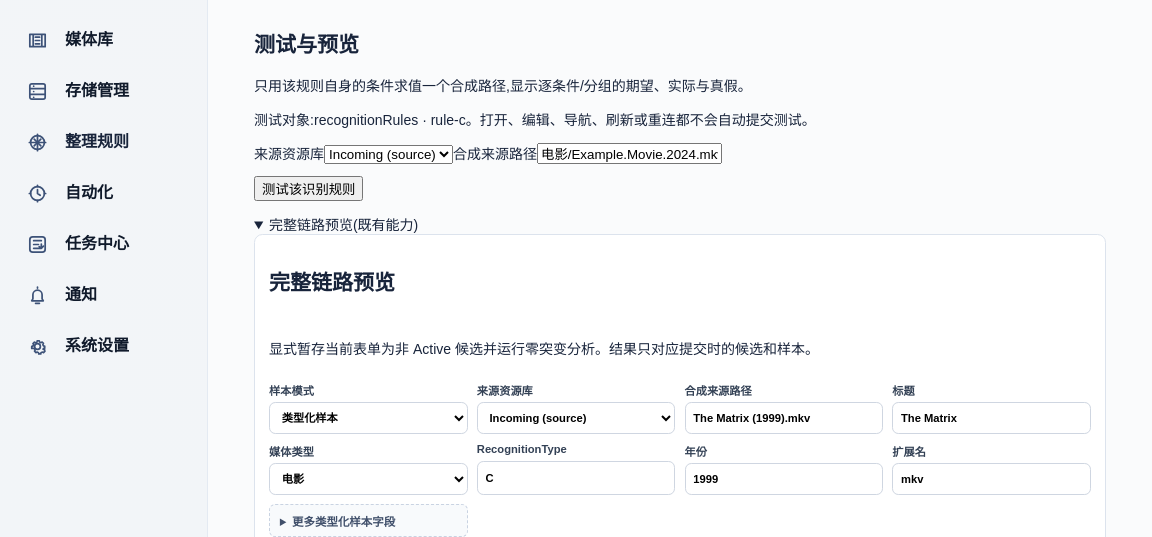
Rules object-scoped local test › never submits on edit, navigation or refresh and marks the result stale
The image size is (1152, 537).
(page scrolled)
Expected: the heading "测试与预览" is shown, [254, 33, 359, 56]
Step 1. Click the button "测试该识别规则" → (309, 188), box [254, 176, 363, 201]
(page scrolled)
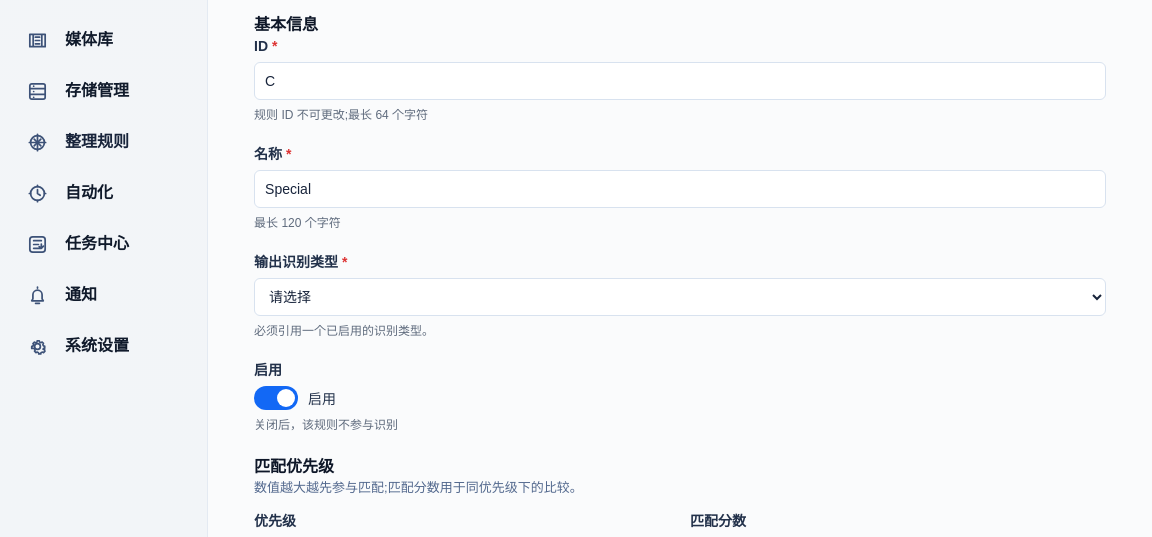
# A relevant edit invalidates currency but submits nothing by itself.
Step 2. Replace the text in the field labelled "名称" with "Edited" → (680, 189), box [254, 170, 1106, 208]
(page scrolled)
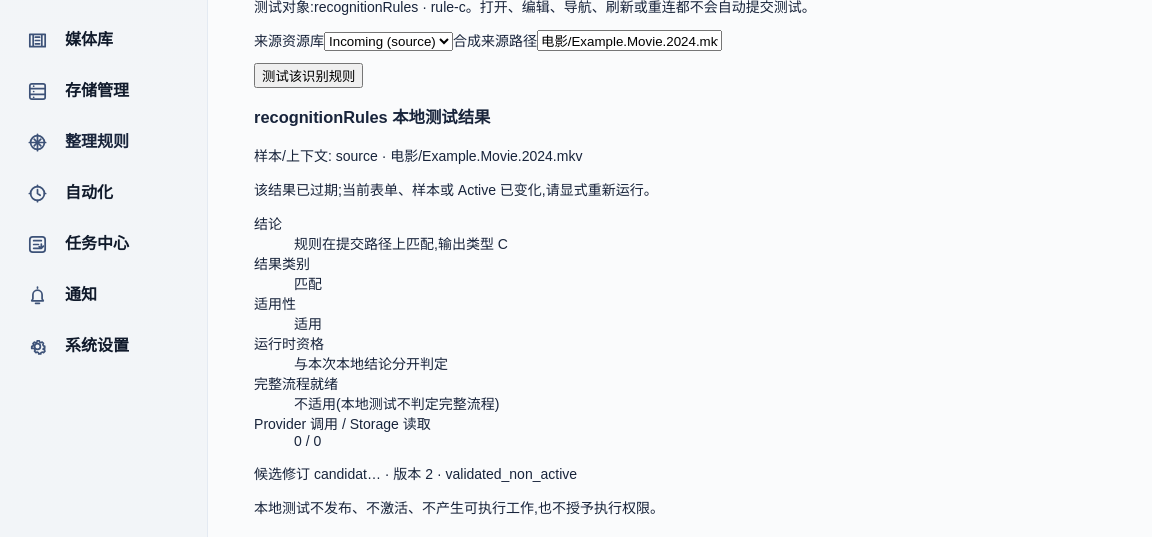
Expected: the text "该结果已过期;当前表单、样本或 Active 已变化,请显式重新运行。" is shown, [254, 182, 658, 198]
